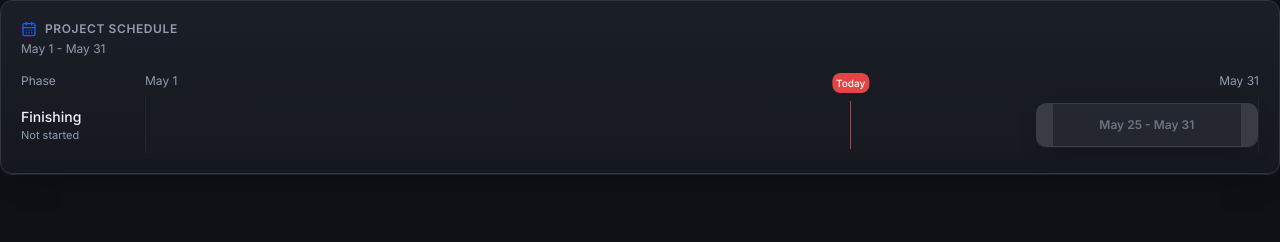
Test: ProjectScheduleTimeline › shows an error and does not persist when resize-end exceeds the project deadline
The width and height of the screenshot is (1280, 242).
Press the mouse on the button named "Resize Finishing end date" at (1249, 125), box 1241,104 -> 1257,146
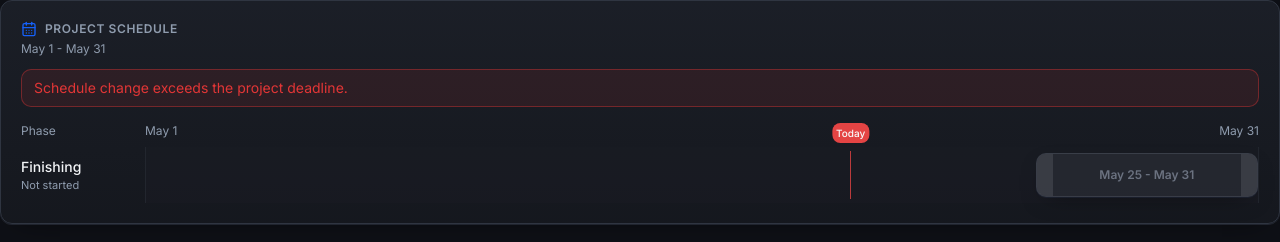
Now the text "Schedule change exceeds the project deadline." is shown, box 21,69 -> 1259,107
